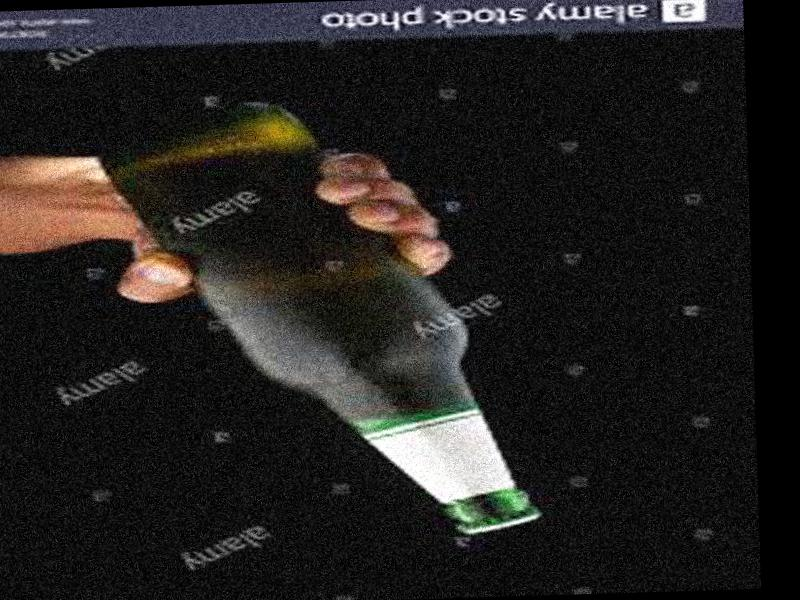Beer: (98, 88, 545, 547)
